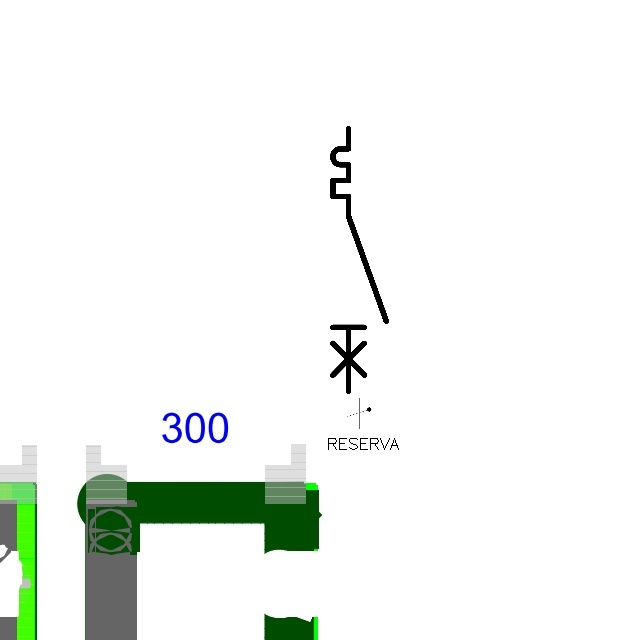interruptor_termomagnetico: (326, 122, 393, 397)
